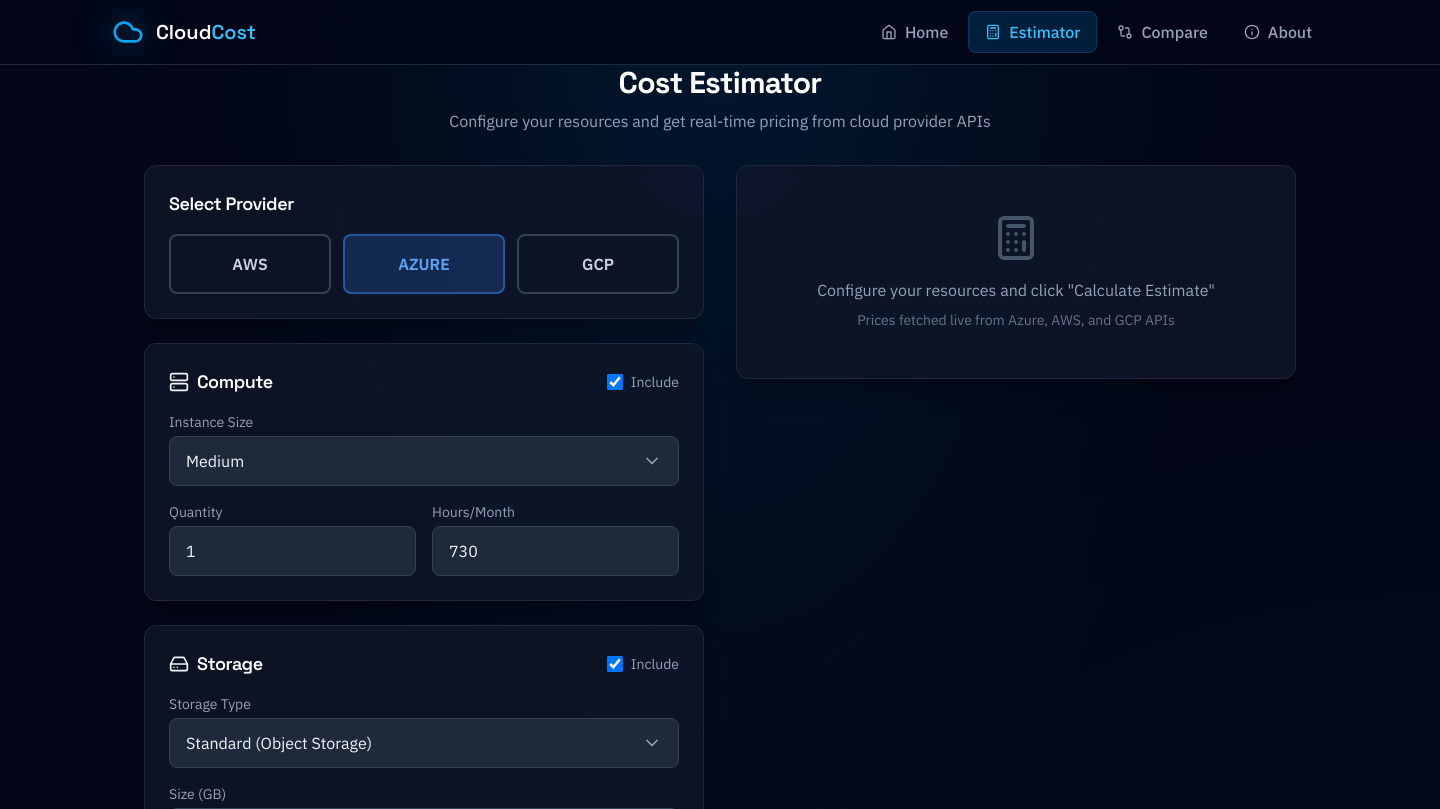
Test: Navigation › navigates to compare page
// Click the first one (nav link)
Click the link "Compare" at [1163, 32], box [1117,22,1208,42]
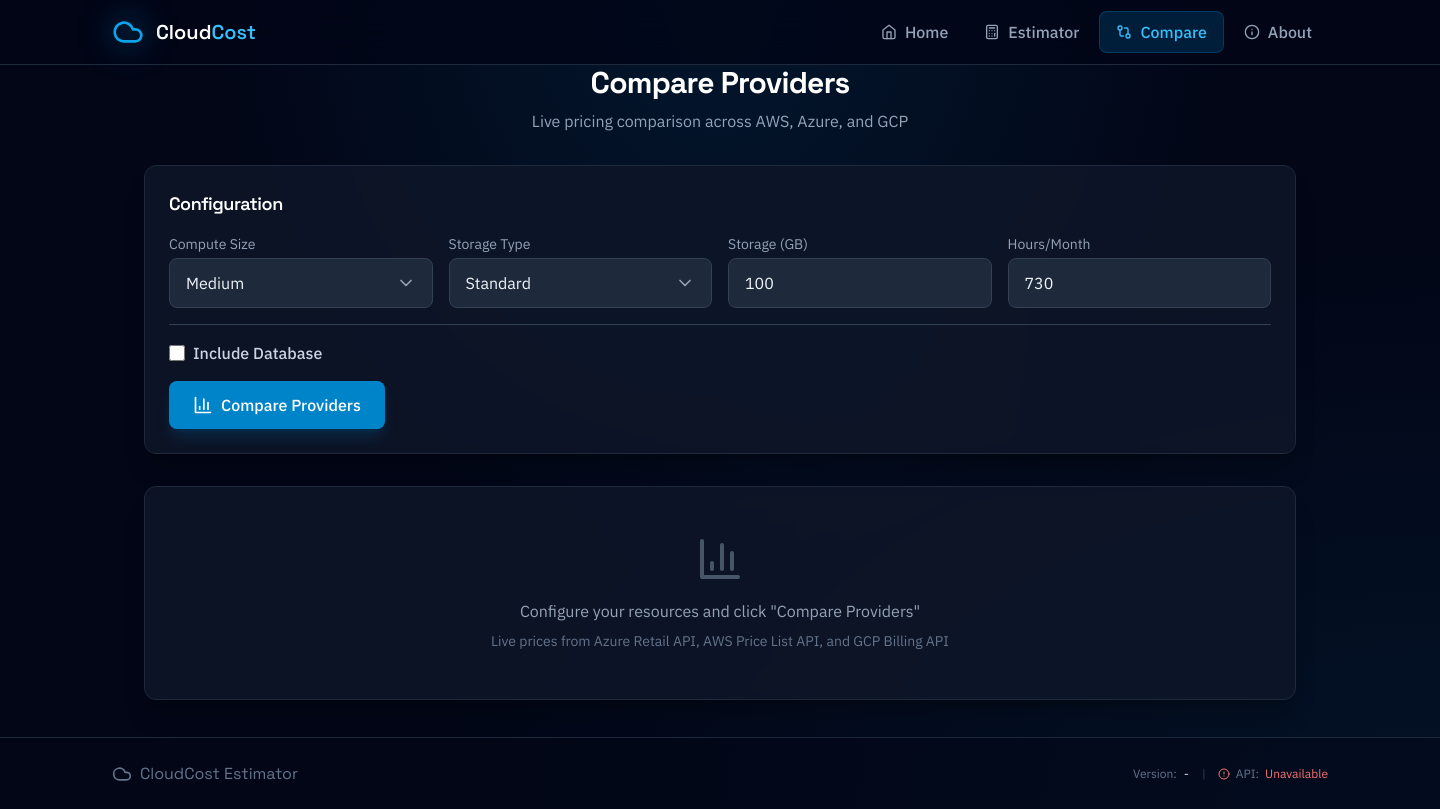
Now the heading "Configuration" is shown, box [169,192,283,215]
